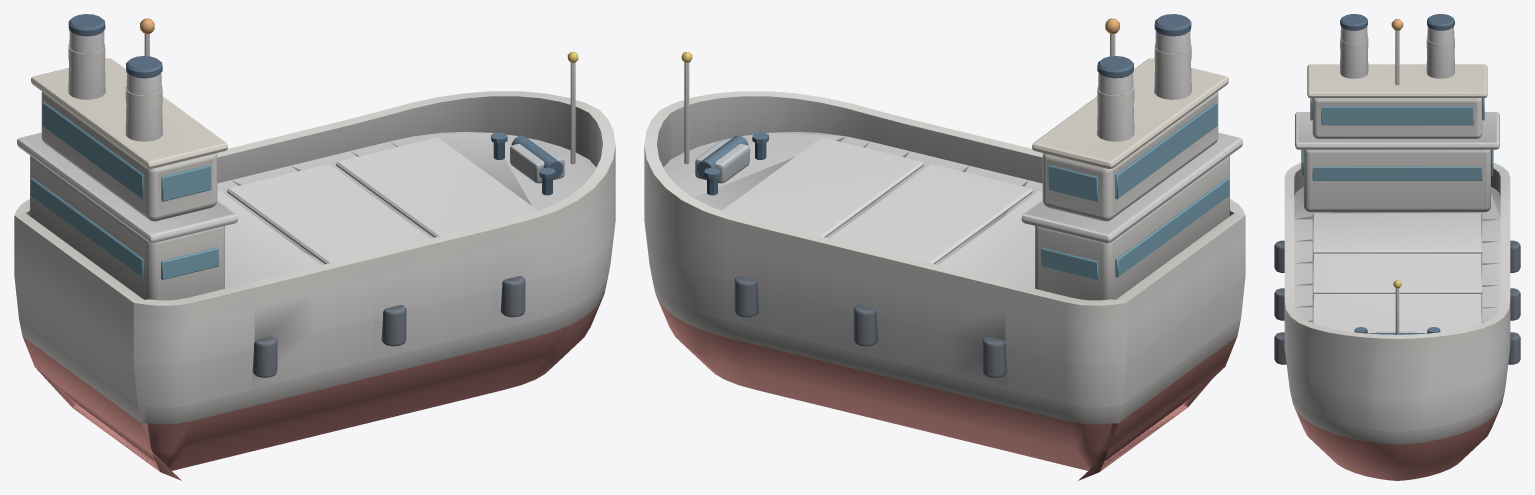
The model's file is ship_tanker.glb.
The picture shows the model from 3 angles, left to right: view 1: azimuth 30°, elevation 25°; view 2: azimuth 150°, elevation 25°; view 3: azimuth 270°, elevation 25°; orthographic projection. The views are drawn at different scales.
Parts seen in each view (by area): view 1: ship_tanker; view 2: ship_tanker; view 3: ship_tanker.
Boxes of the visible parts, x1,y1,x2,y2 form: ship_tanker: [14, 14, 615, 480]; ship_tanker: [644, 14, 1245, 480]; ship_tanker: [1274, 14, 1520, 480].
Bounding box in the file's own units: 5.3 × 3.98 × 2.84.
